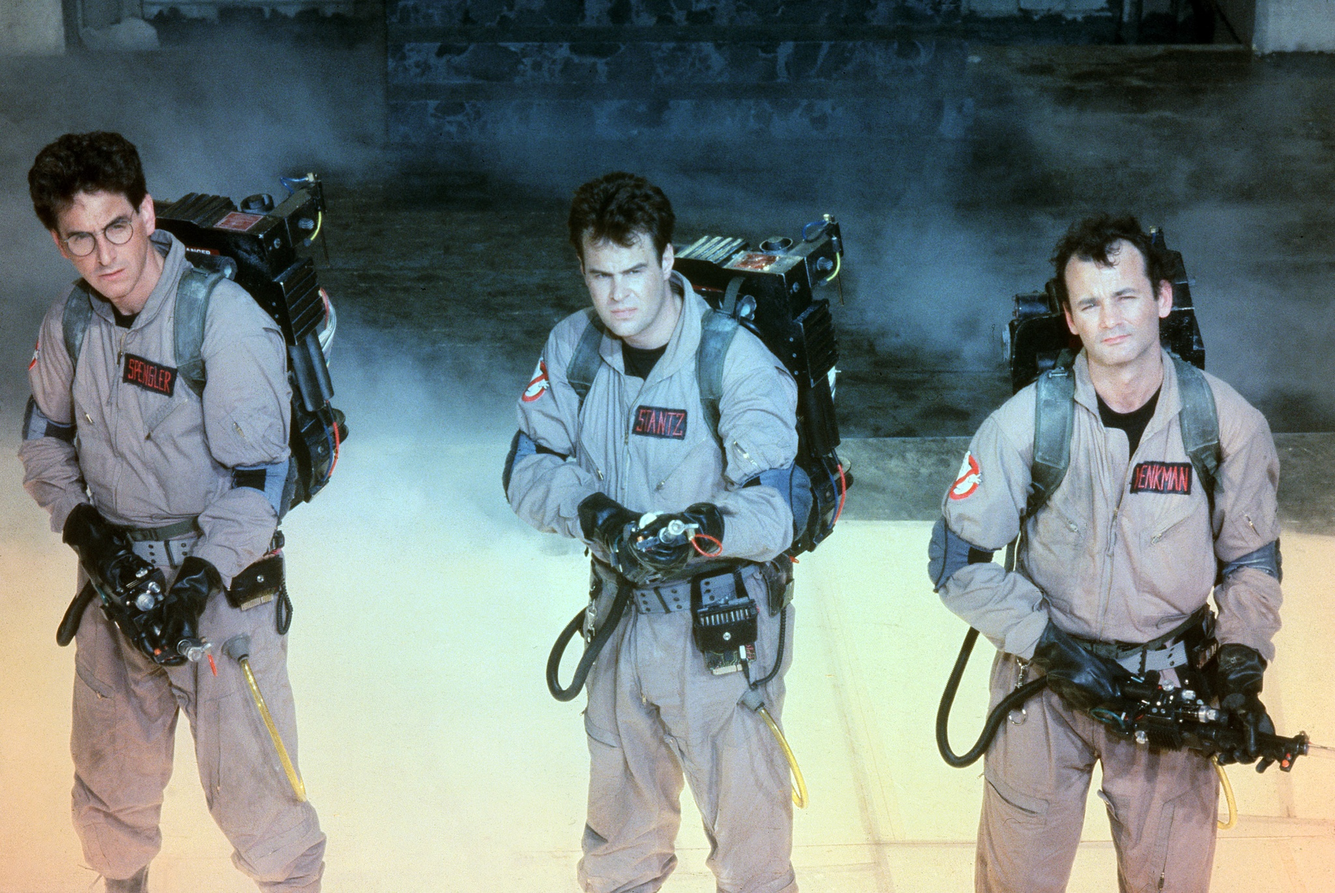27: (568, 210, 673, 352)
33: (43, 169, 159, 313)
37: (1054, 231, 1167, 381)
Belt: (574, 557, 795, 627), (1045, 623, 1218, 688), (90, 512, 219, 581)
Glasses: (49, 194, 154, 261)
Gloves: (576, 487, 726, 588), (46, 496, 166, 619), (1036, 606, 1152, 728), (1195, 642, 1275, 776), (154, 557, 225, 673)
Jump suit: (16, 230, 330, 893), (911, 339, 1286, 893), (498, 266, 819, 893)
Male: (1054, 231, 1167, 381), (43, 169, 159, 313), (568, 210, 673, 352)
T-shirt: (1076, 378, 1186, 463), (616, 337, 682, 385), (101, 296, 152, 332)
